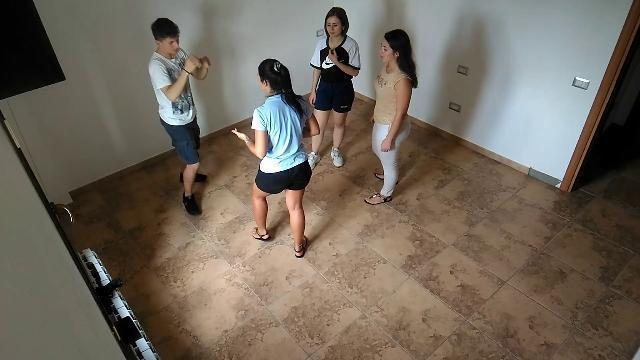non-violence: (366, 30, 416, 204), (306, 8, 360, 166)
violence: (143, 16, 317, 257)
